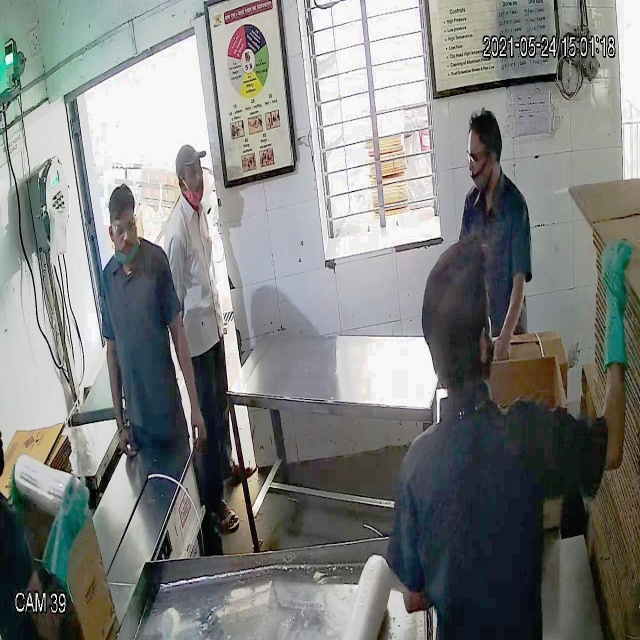Gafas: (103, 212, 143, 244), (466, 144, 501, 170)
Sin_gafas: (178, 162, 206, 183)
